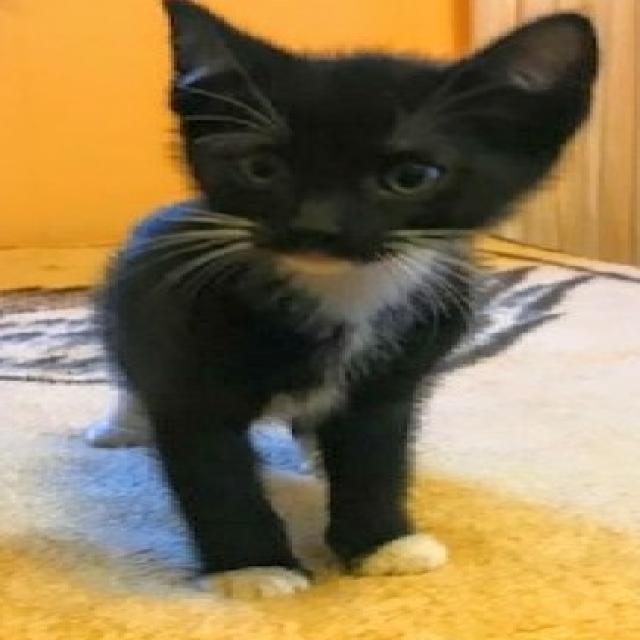Tuxedo: (86, 0, 604, 604)
